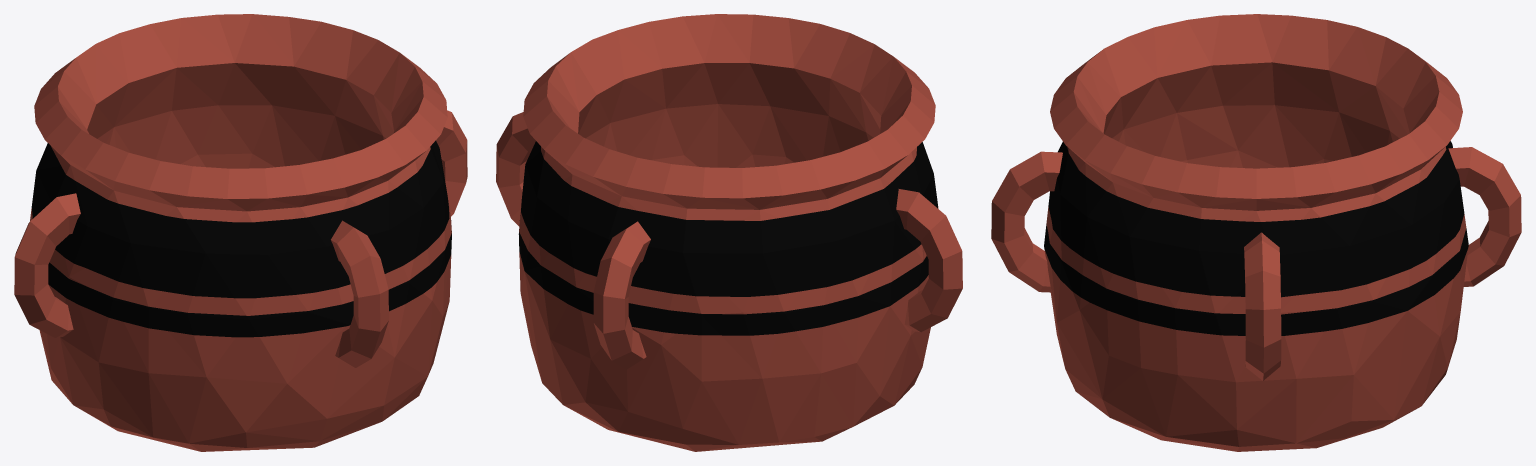
Rendered from Pottery 14_2.fbx.
3 views of the same model, side by side, from view 1: azimuth 30°, elevation 25°; view 2: azimuth 150°, elevation 25°; view 3: azimuth 270°, elevation 25° (orthographic).
Visible parts, largest first — view 1: Pottery 14_2; view 2: Pottery 14_2; view 3: Pottery 14_2.
Part boxes in pixels (x1,y1,x2,y2): Pottery 14_2: (14,14,467,451); Pottery 14_2: (496,14,962,451); Pottery 14_2: (991,14,1521,451).
Bounding box in the file's own units: 64.97 × 40.14 × 64.97.
